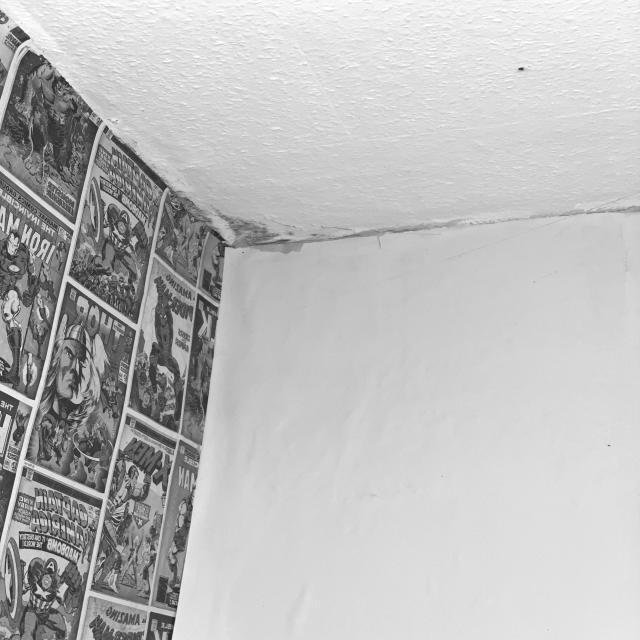pin holes: (507, 54, 530, 82)
stain marks: (193, 196, 320, 266), (318, 214, 474, 243), (394, 240, 459, 307), (532, 196, 638, 228)
